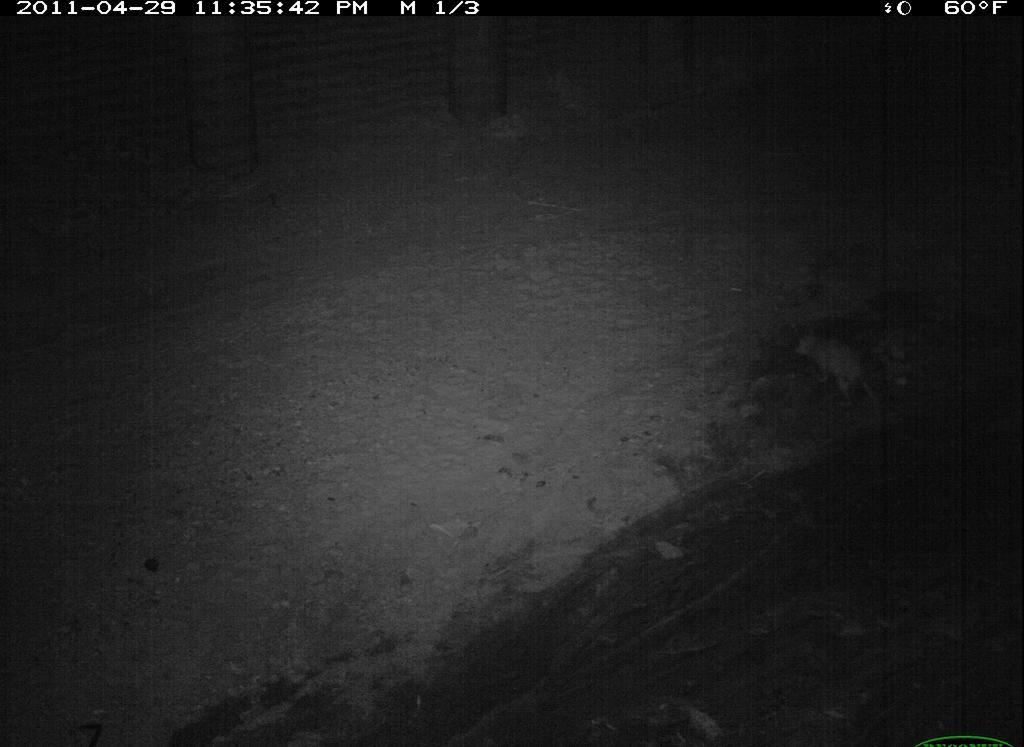opossum: (786, 322, 891, 424)
